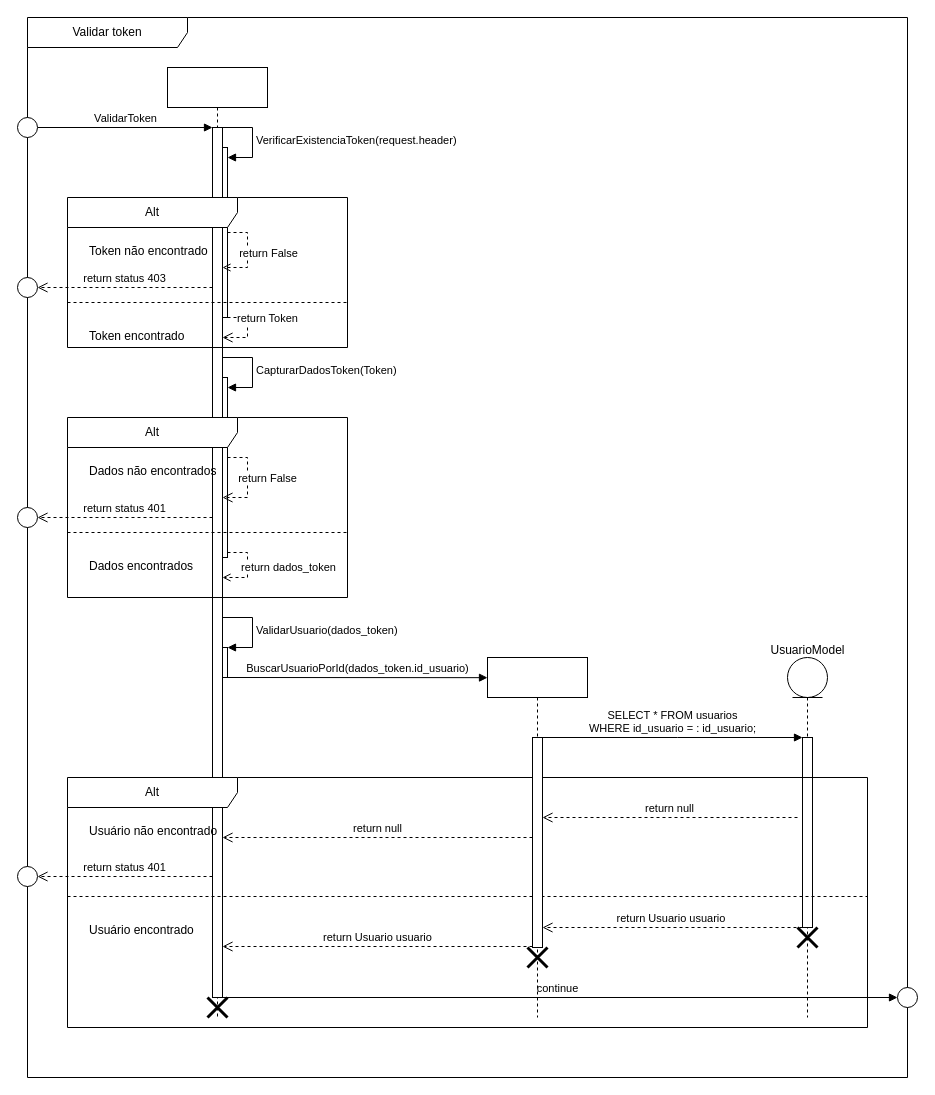
This 935x1095 diagram has some shape labels left out. Each missing label, with the box of its shape:
AuthMiddleware: (166, 66, 268, 1018)
UsuarioService: (486, 656, 588, 1018)
